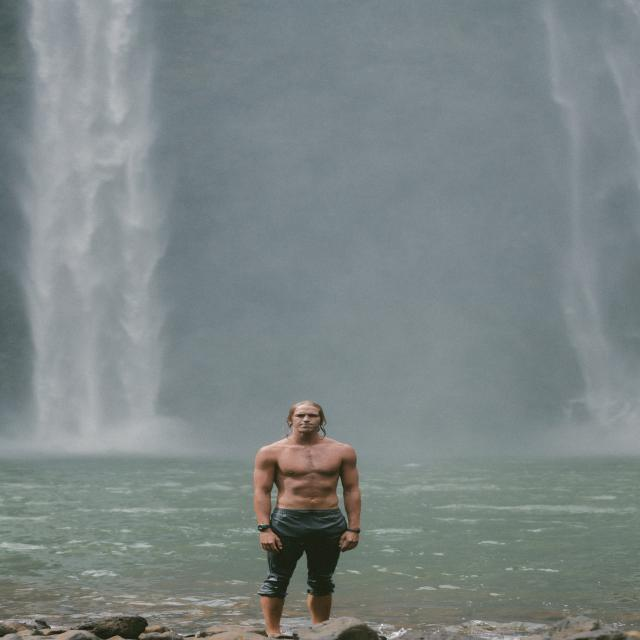standing: (250, 401, 373, 640)
